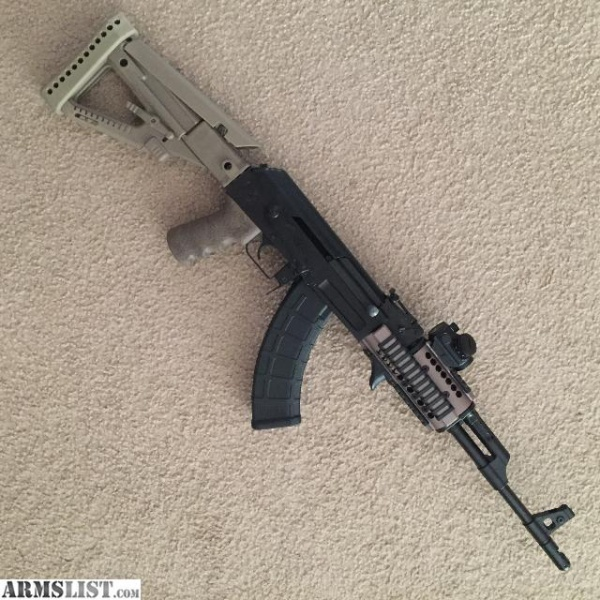ak47: (16, 14, 568, 569)
